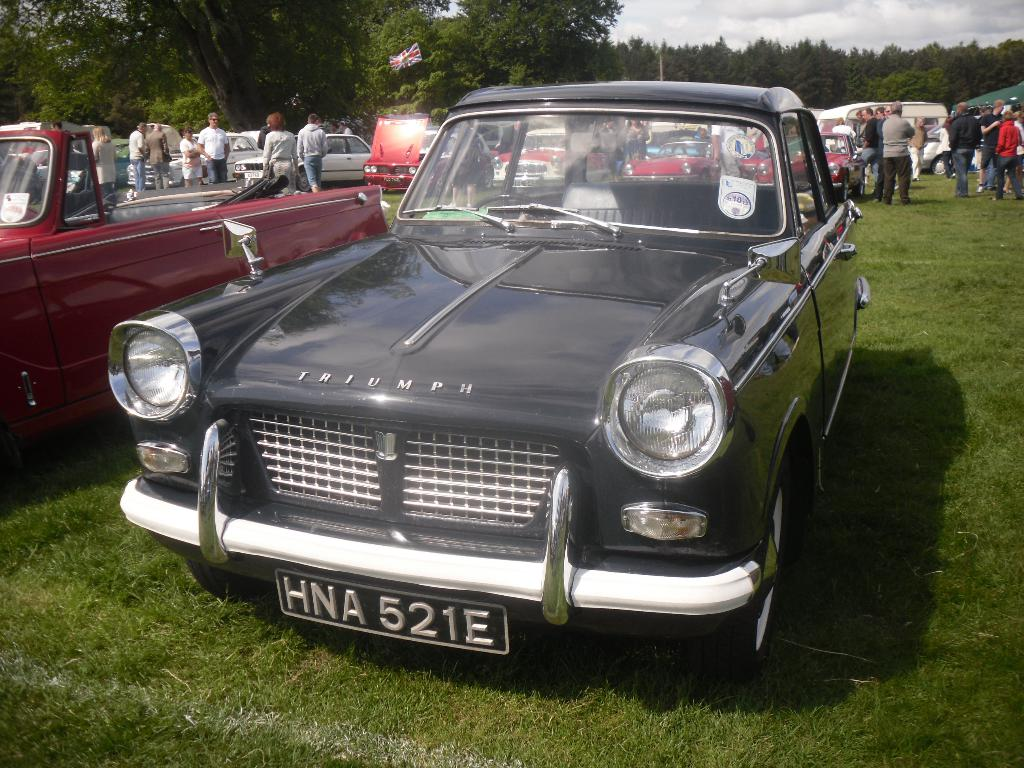cars: (103, 77, 874, 666), (0, 121, 396, 457), (130, 123, 870, 204), (364, 116, 491, 186), (127, 130, 262, 186), (745, 135, 865, 196), (237, 135, 372, 180), (496, 136, 605, 188), (625, 127, 717, 182)
